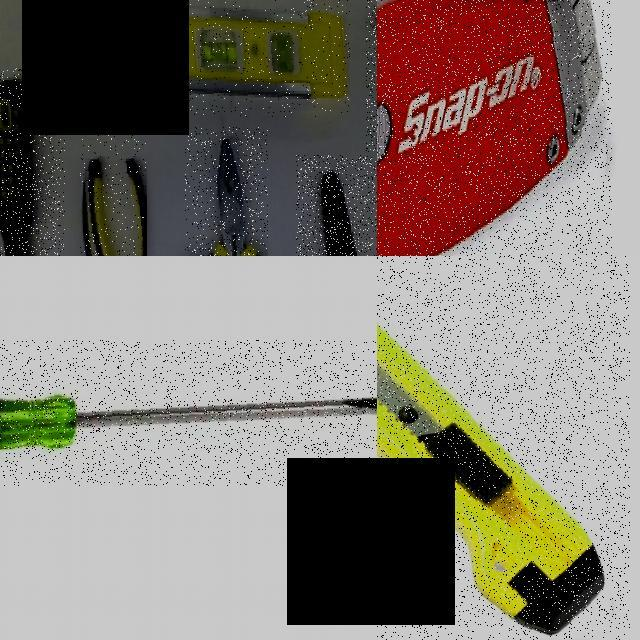estilete: (378, 327, 603, 634)
